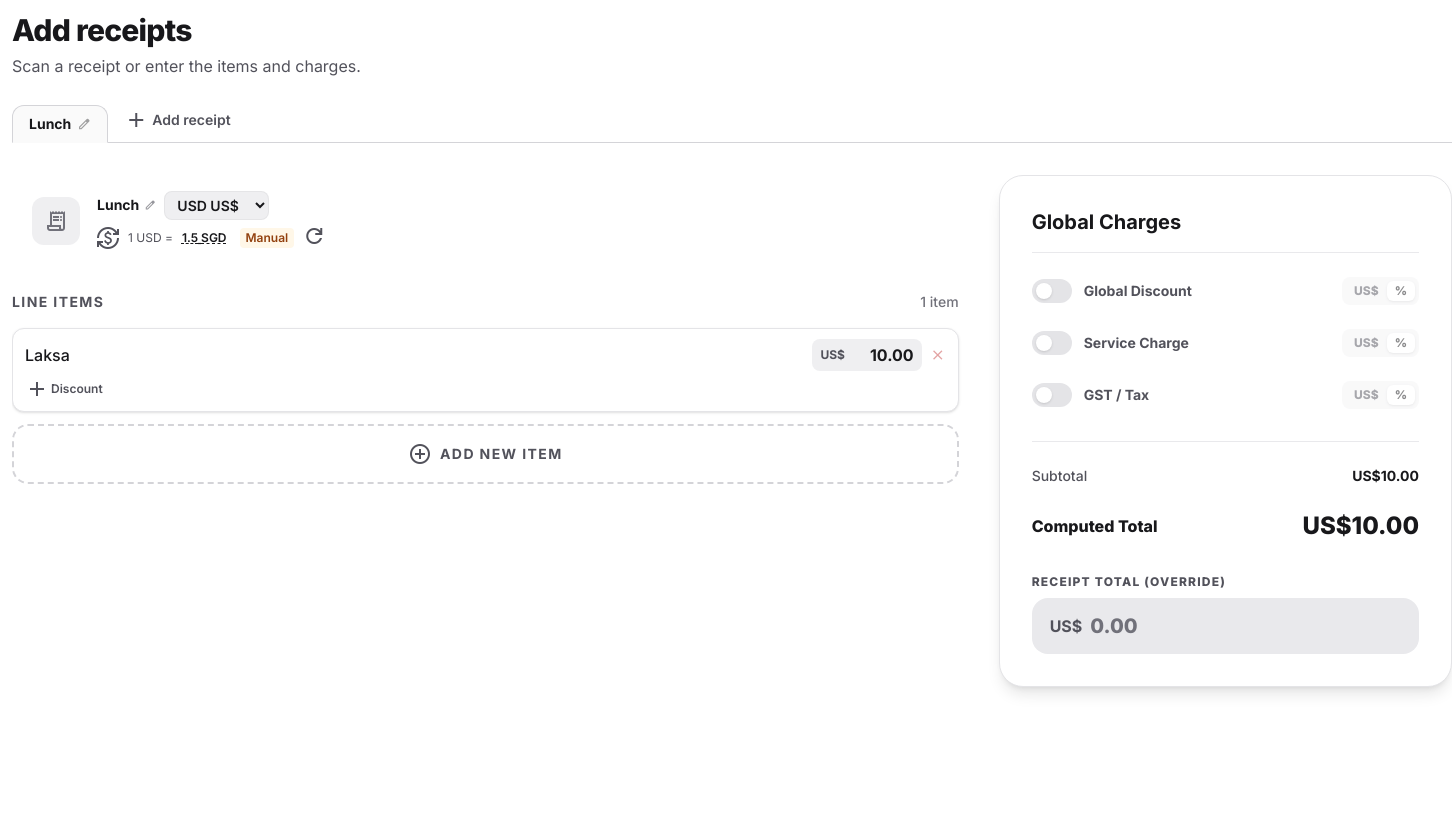
Test: ReceiptStep › prices items in a new currency and forgets the rate typed for the old one
expect the text "Manual" is shown: met, box [240, 228, 294, 248]
Select "JPY ¥" in the dropdown at (217, 205), box [164, 190, 269, 220]
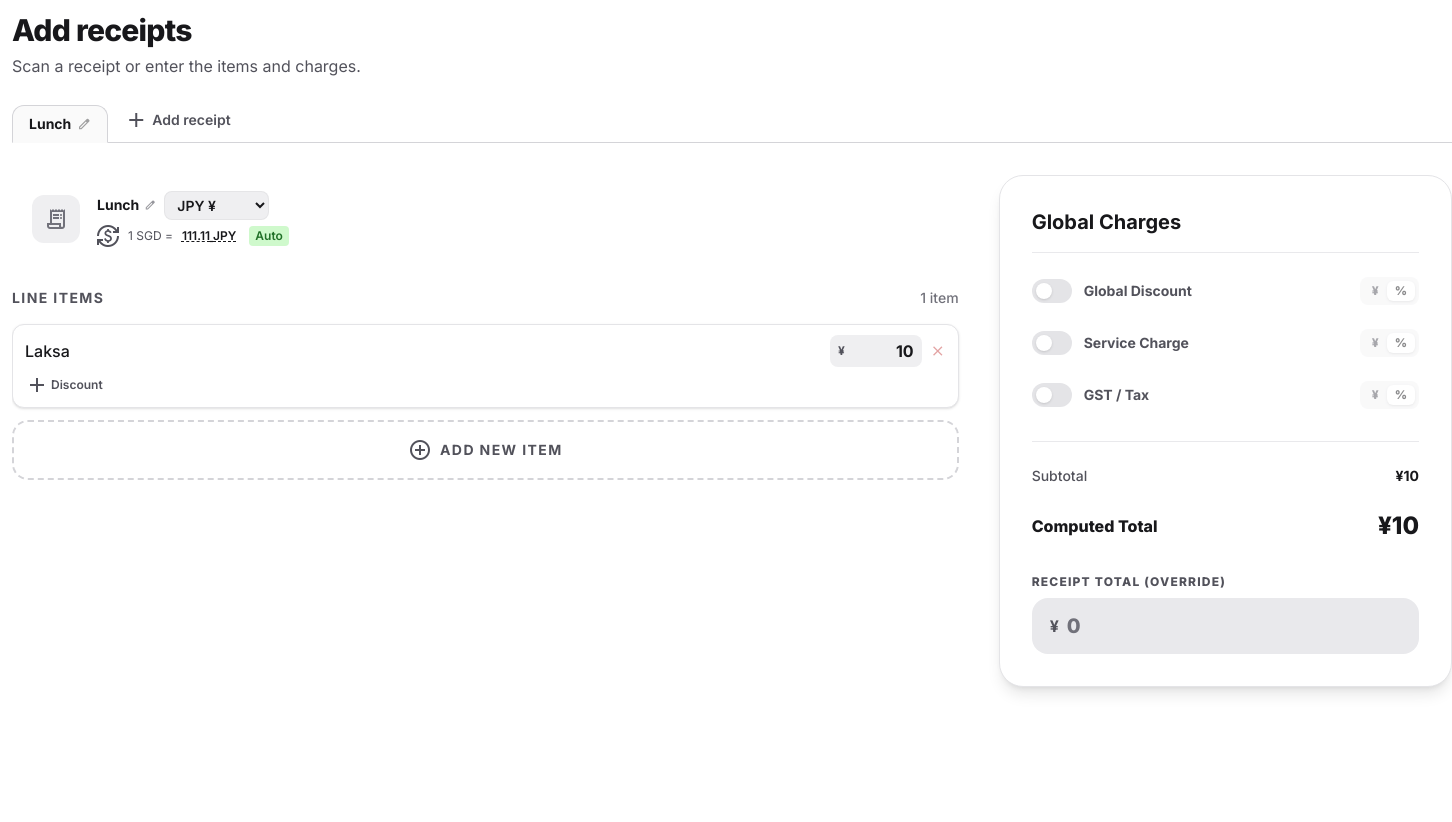
expect the text "Auto" is shown: met, box [249, 226, 289, 246]
